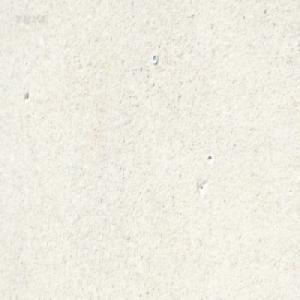Washer: (151, 52, 158, 64)
